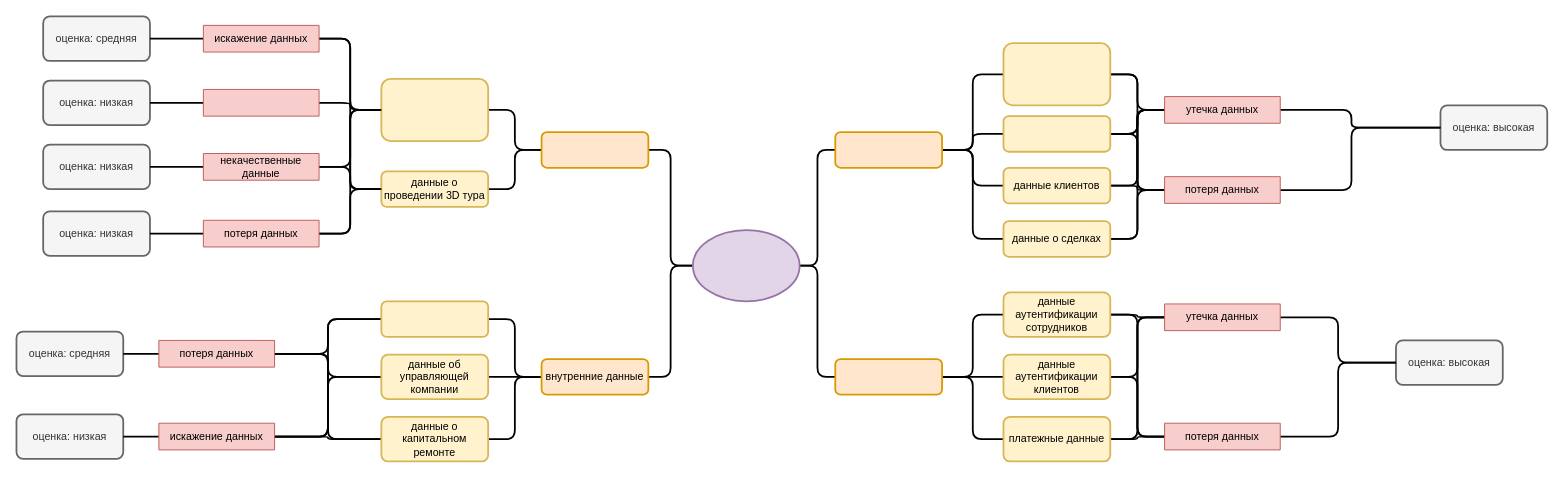
This 1563x477 diagram has some shape labels left out. Each missing label, with the centre of its shape:
"Безопасность данных" belongs at [746,265].
"данные о недвижемости, которую можно купить" belongs at [434,109].
"данные об услугах ЖКУ" belongs at [434,318].
"данные собственников" belongs at [1056,133].
"данные, получаемые с датчиков умного дома" belongs at [1056,74].
"конфиденциальные данные" belongs at [888,149].
"обесценивание данных" belongs at [260,102].
"публичные данные" belongs at [594,149].
"секретные данные" belongs at [888,376].
